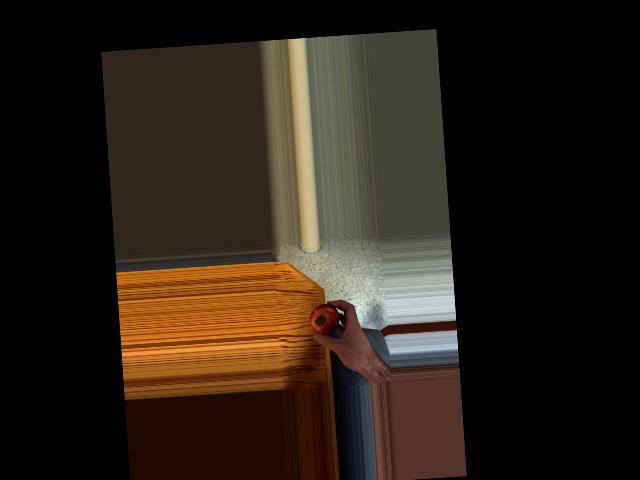apple: (308, 301, 342, 340)
